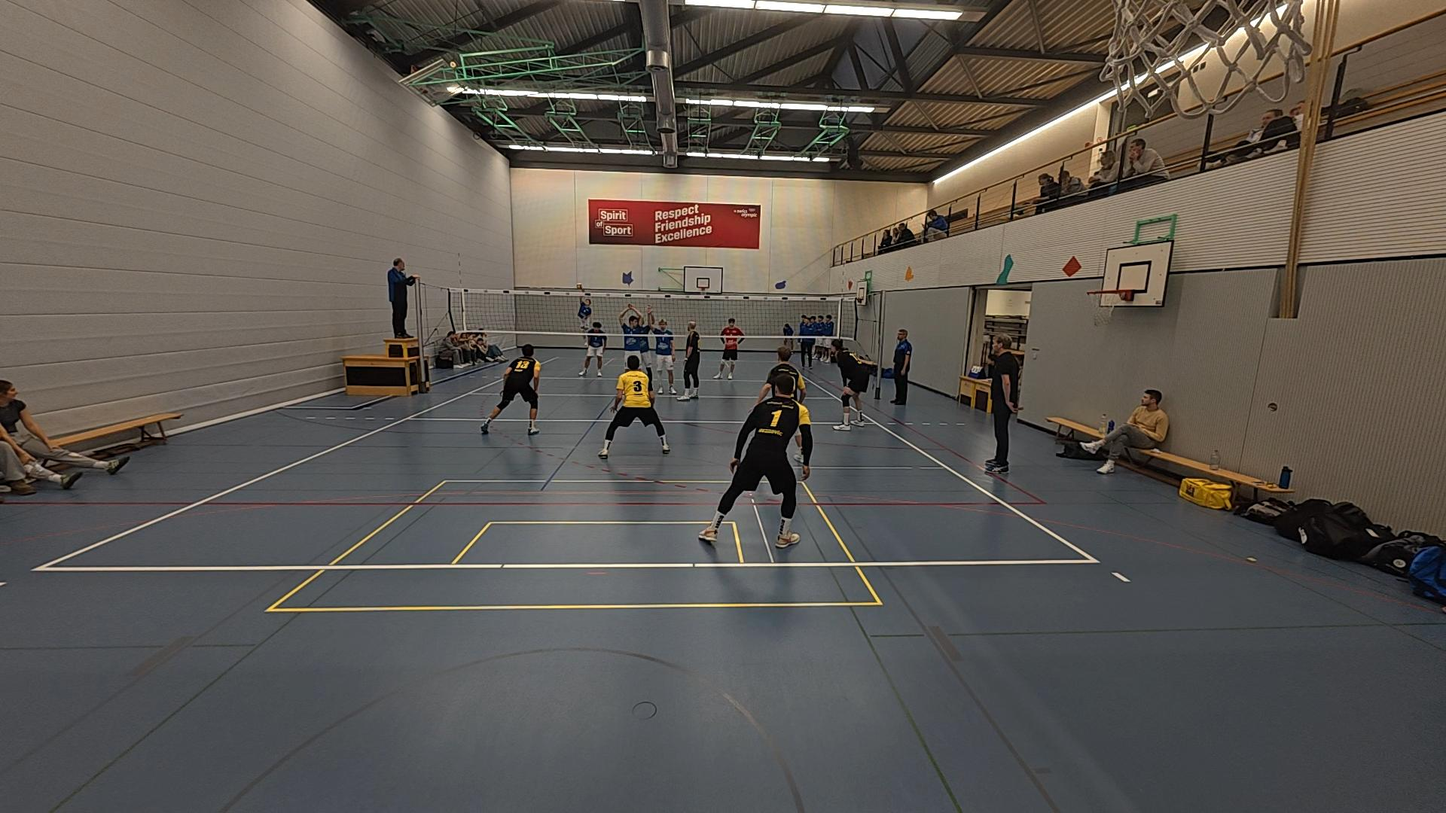Player: (698, 376, 809, 548), (598, 355, 670, 458), (760, 343, 813, 480), (480, 345, 542, 434), (831, 335, 871, 429), (648, 315, 678, 395), (632, 298, 655, 390), (618, 303, 647, 372), (579, 317, 610, 379), (679, 322, 702, 401), (715, 317, 743, 381)
Serve: (577, 284, 592, 348)
ball: (576, 283, 583, 289)
